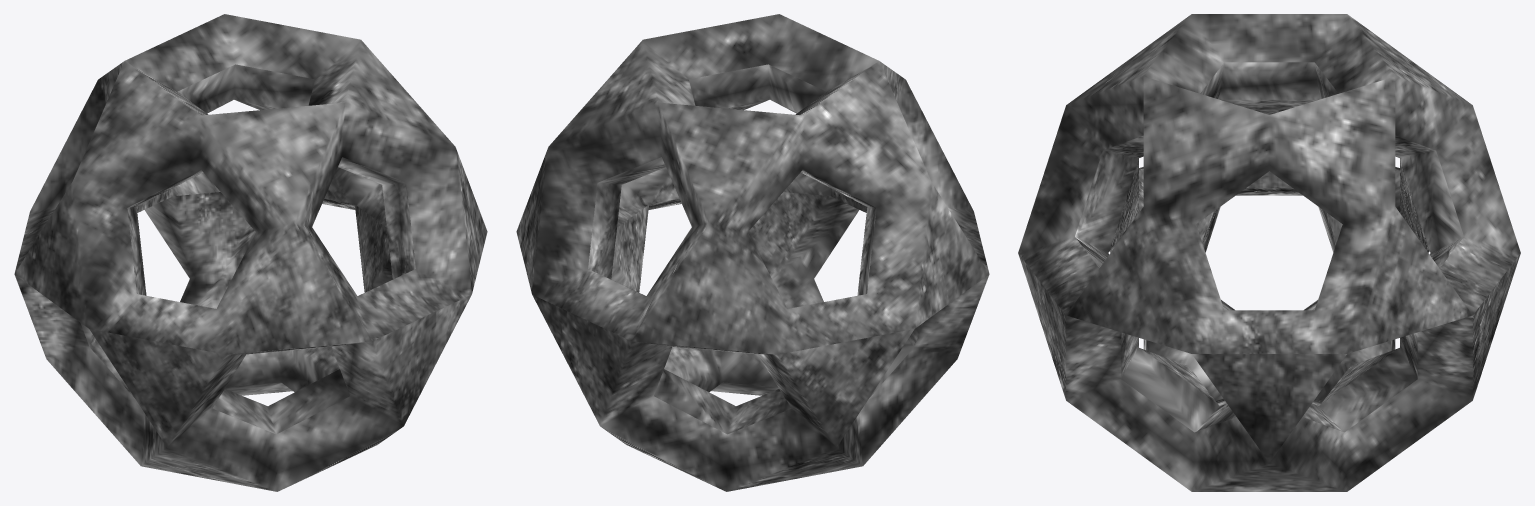
File: epol.obj
The picture shows the model from 3 angles, left to right: view 1: azimuth 30°, elevation 25°; view 2: azimuth 150°, elevation 25°; view 3: azimuth 270°, elevation 25°; orthographic projection. The views are drawn at different scales.
Parts seen in each view (by area): view 1: unnamed_object1; view 2: unnamed_object1; view 3: unnamed_object1.
Part boxes in pixels (left/top/right/bottom): unnamed_object1: left=14, top=14, right=487, bottom=491; unnamed_object1: left=516, top=14, right=989, bottom=491; unnamed_object1: left=1018, top=14, right=1520, bottom=491.
Bounding box in the file's own units: 3.08 × 2.75 × 3.24.
1 material, 1 textured.
